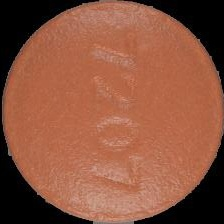63739-356: (0, 0, 224, 224)
